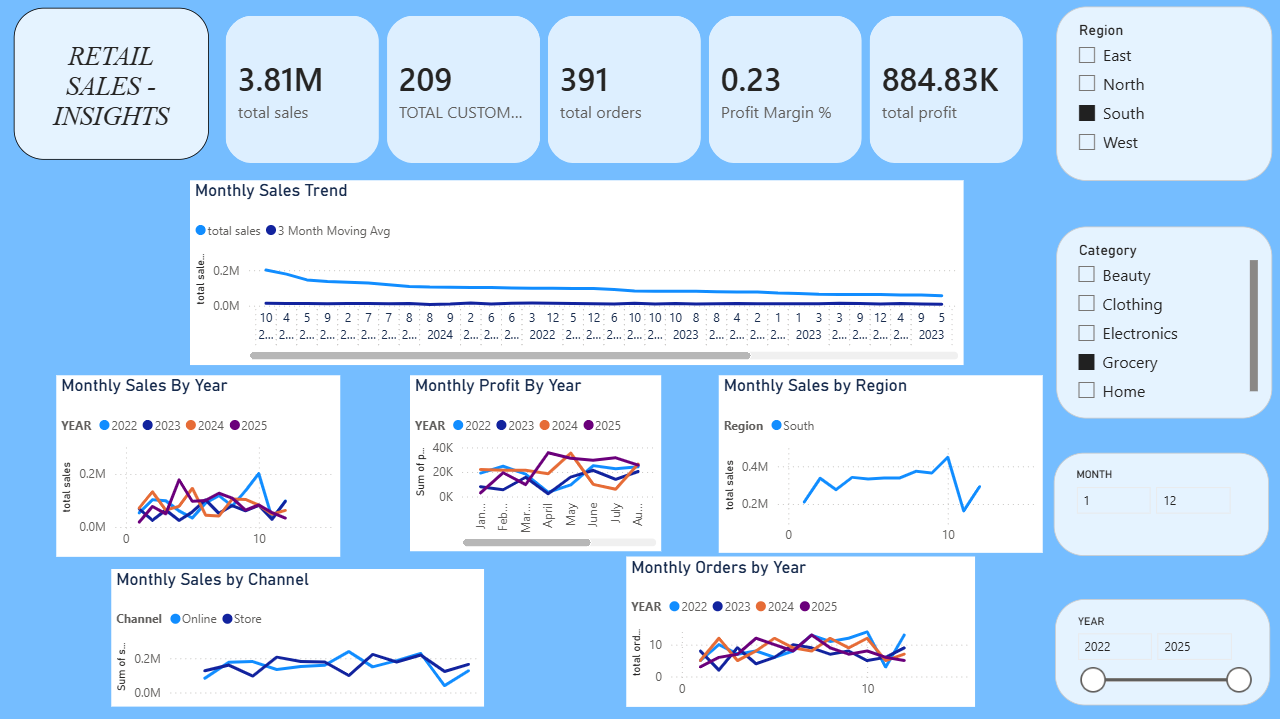

This screenshot's page, from the dashboard's own definition file:
{"tool":"powerbi","page":{"name":"Time series analysis","canvas":[1280,720],"ordinal":6},"visuals":[{"type":"cardVisual","fields":{"Data":["Fact sales.total sales","Fact sales.TOTAL CUSTOMERS (VALUES)","Fact sales.total orders","Fact sales.Profit Margin %","Fact sales.total profit"]},"box":[208.3,0,835,181.7],"z":0},{"type":"slicer","fields":{"Values":["Dim customer.Region"]},"box":[1056,8,216,174],"z":1000},{"type":"slicer","fields":{"Values":["Dim Product.Category"]},"box":[1056,228,216,192],"z":2000},{"type":"slicer","fields":{"Values":["Dim Calender.YEAR"]},"box":[1055,600,215,106.7],"z":3000},{"type":"textbox","box":[13.3,8.3,195,151.7],"z":5000},{"type":"slicer","fields":{"Values":["Dim Calender.MONTH"]},"box":[1054,454,215,103.3],"z":6000},{"type":"lineChart","title":"Monthly Sales  By Year","fields":{"Category":["Dim Calender.MONTH"],"Y":["Fact sales.total sales"],"Series":["Dim Calender.YEAR"]},"box":[56,375.7,284.2,181.7],"z":7000},{"type":"lineChart","title":"Monthly Sales Trend","fields":{"Category":["Dim Calender.YEAR","Dim Calender.MONTH"],"Y":["Fact sales.total sales","Dim Calender.3 Month Moving Avg"]},"box":[189.9,181.7,773.4,184.5],"z":8000},{"type":"lineChart","title":"Monthly Profit By Year","fields":{"Category":["Dim Calender.Date.Variation.Date Hierarchy.Month"],"Y":["Sum(Fact sales.profit)"],"Series":["Dim Calender.YEAR"]},"box":[409.9,375.7,251.4,176.3],"z":9000},{"type":"lineChart","title":"Monthly Orders by Year","fields":{"Category":["Dim Calender.MONTH"],"Y":["Fact sales.total orders"],"Series":["Dim Calender.YEAR"]},"box":[626.2,557.5,348.8,150],"z":10000},{"type":"lineChart","title":"Monthly Sales by Region","fields":{"Category":["Dim Calender.MONTH"],"Y":["Fact sales.total sales"],"Series":["Dim customer.Region"]},"box":[718.7,375.7,323.8,177.6],"z":12000},{"type":"lineChart","title":"Monthly Sales by Channel","fields":{"Category":["Dim Calender.MONTH"],"Y":["Sum(Fact sales.sales)"],"Series":["Dim store.Channel"]},"box":[111.2,570,372.5,137.5],"z":13000}]}

Visuals, with their boxes in screenshot pixels (x1, y1, x2, y2), scaled from the page's 1280x720 canvas onto the 1280x719 screenshot:
cardVisual - Fact sales.total sales x Fact sales.TOTAL CUSTOMERS (VALUES): [208,0,1043,181]
slicer - Dim customer.Region: [1056,8,1272,182]
slicer - Dim Product.Category: [1056,228,1272,419]
slicer - Dim Calender.YEAR: [1055,599,1270,706]
textbox: [13,8,208,160]
slicer - Dim Calender.MONTH: [1054,453,1269,557]
"Monthly Sales  By Year" lineChart: [56,375,340,557]
"Monthly Sales Trend" lineChart: [190,181,963,366]
"Monthly Profit By Year" lineChart: [410,375,661,551]
"Monthly Orders by Year" lineChart: [626,557,975,707]
"Monthly Sales by Region" lineChart: [719,375,1042,553]
"Monthly Sales by Channel" lineChart: [111,569,484,707]
